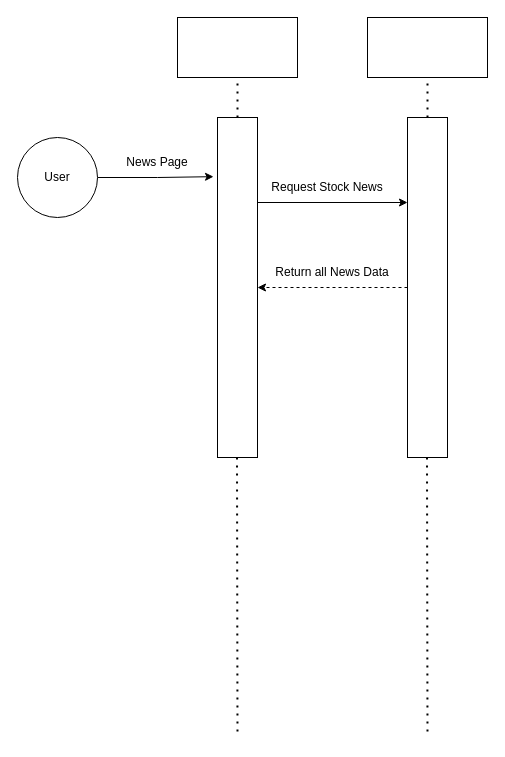
Some shapes in this 505 by 757 pixel diagram are drawn without their labels. The centre of each missing label's shape, as x and y in pixels:
Back-end: pixel 427 47
UI: pixel 237 47
